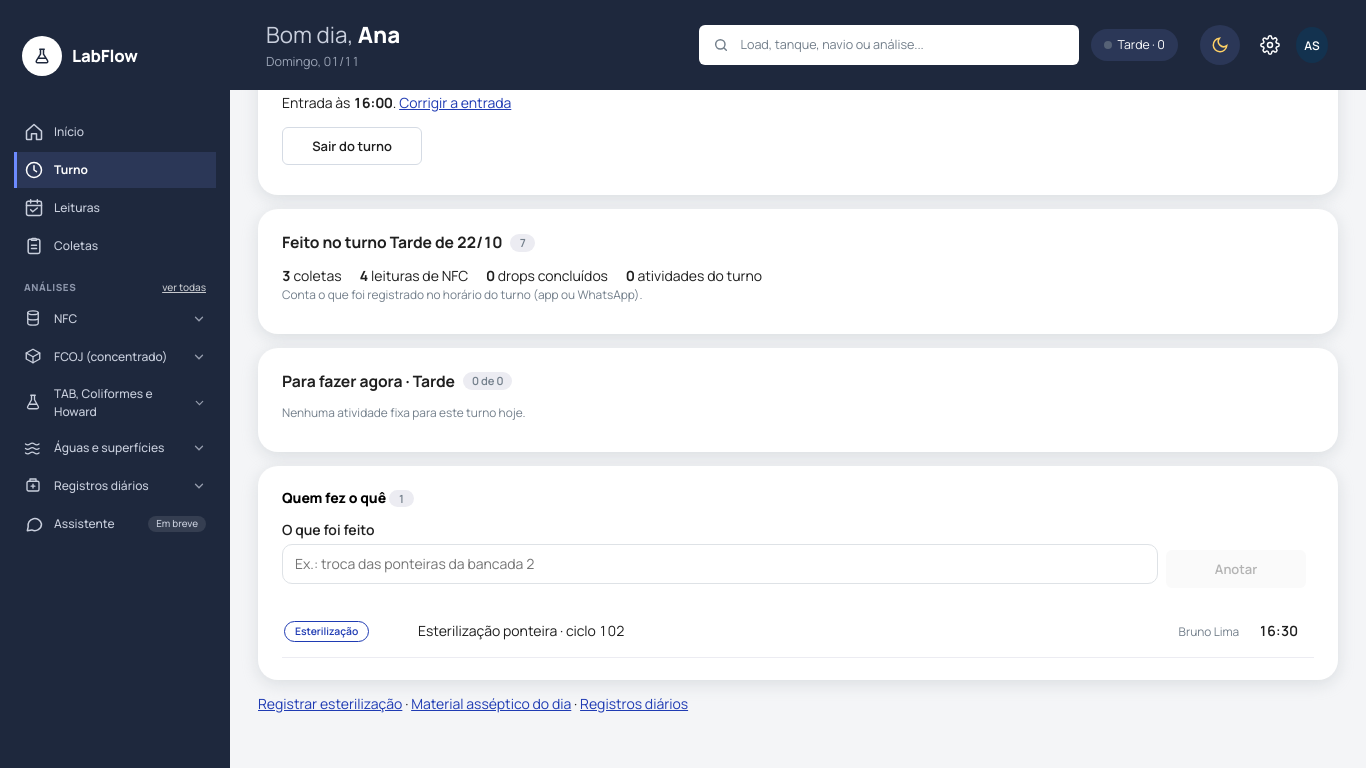
Turno como central (APP-033) › anota uma atividade realizada e mostra quem e a que horas; só quem escreveu exclui
(page scrolled)
Expected: the text "Bruno Lima" is shown, 1179,623 -> 1239,640
Expected: the button "Excluir" is not shown
Type "Limpeza da capela" into the field labelled "O que foi feito" at (720, 564), box 282,544 -> 1158,584
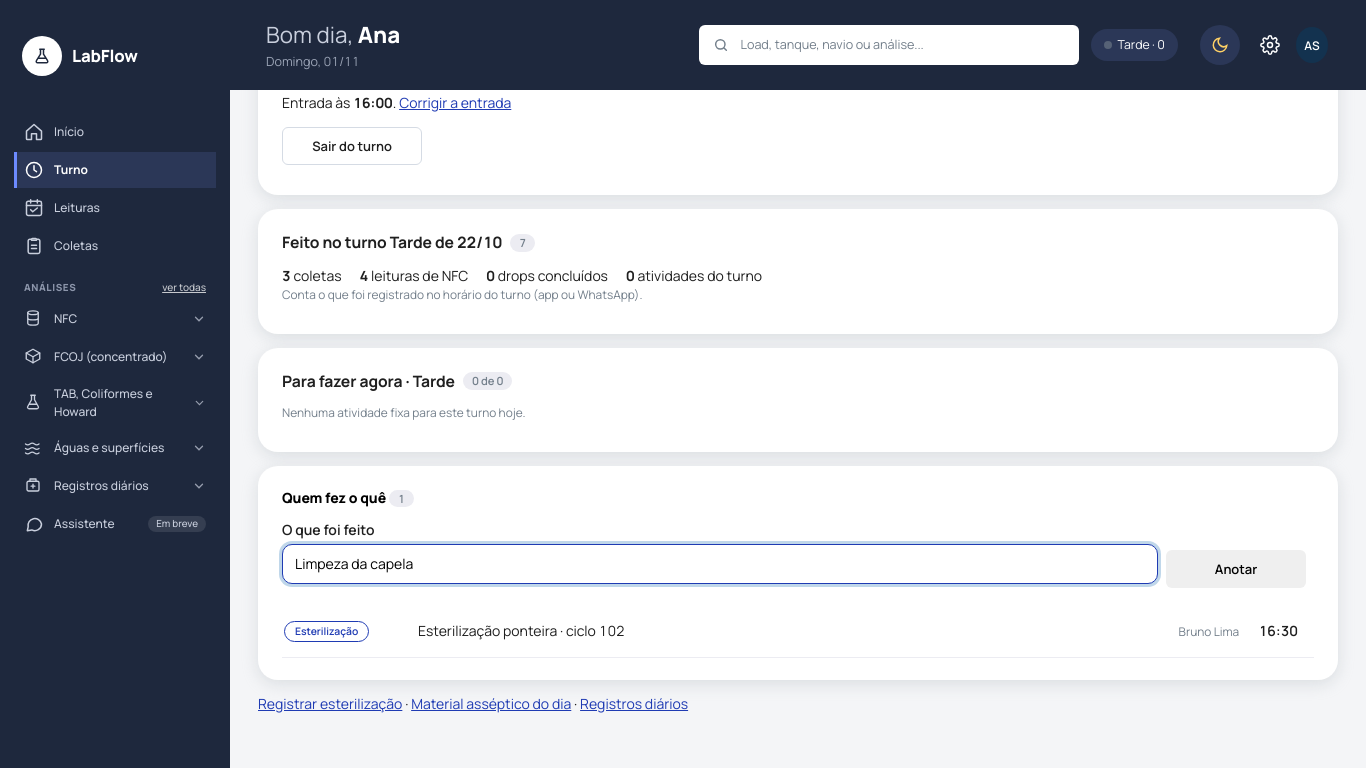
Click the button "Anotar" at (1236, 569), box 1166,550 -> 1306,588
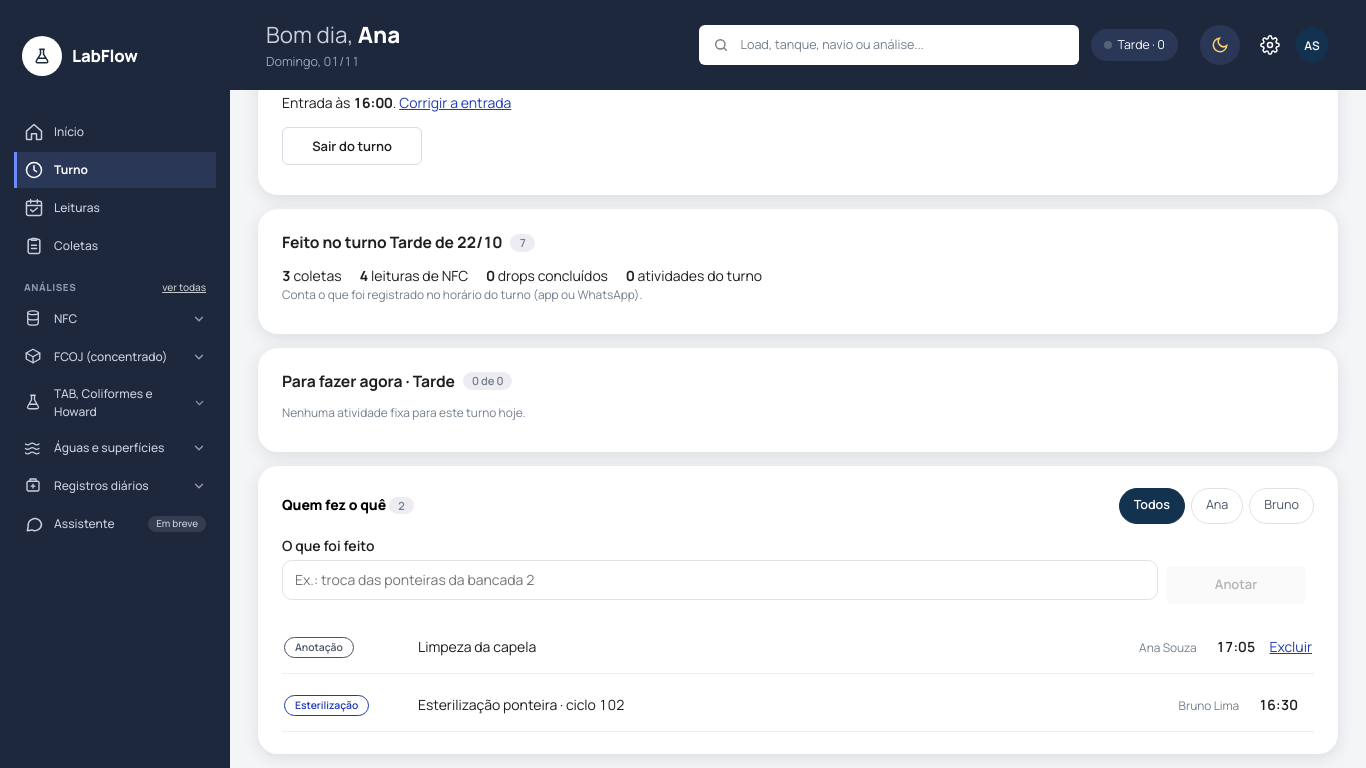
Result: the text "Ana Souza" is shown at 1139,639 -> 1197,656
Result: the text "17:05" is shown at 1211,637 -> 1256,658
Click the button with aria-label "Excluir: Limpeza da capela" at (1291, 647), box 1270,631 -> 1312,664
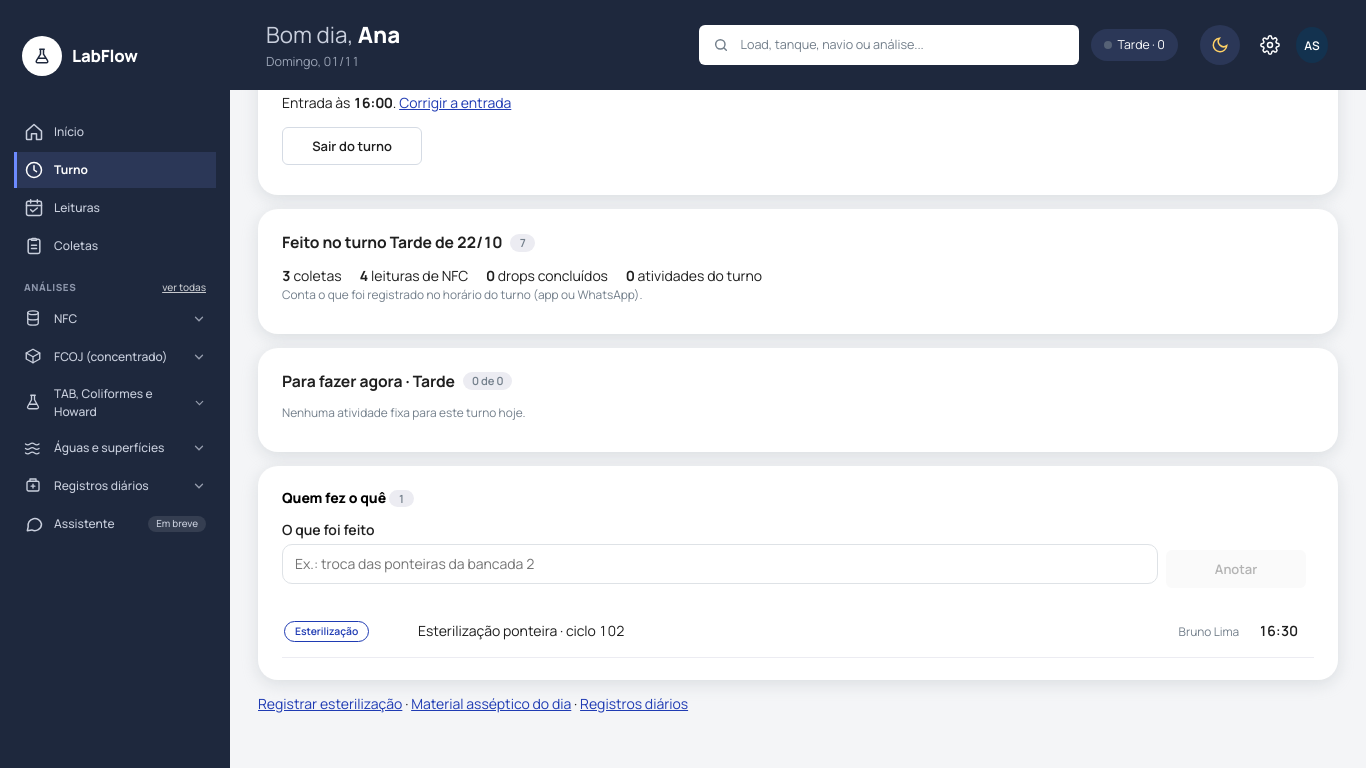
Expected: the text "Bruno Lima" is shown, 1179,623 -> 1239,640
Result: the text "Limpeza da capela" is gone
